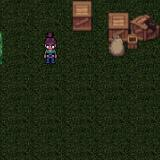Hide: (63, 0, 100, 36)
Obstacle: (93, 0, 160, 62)
Victim: (36, 27, 64, 71)
